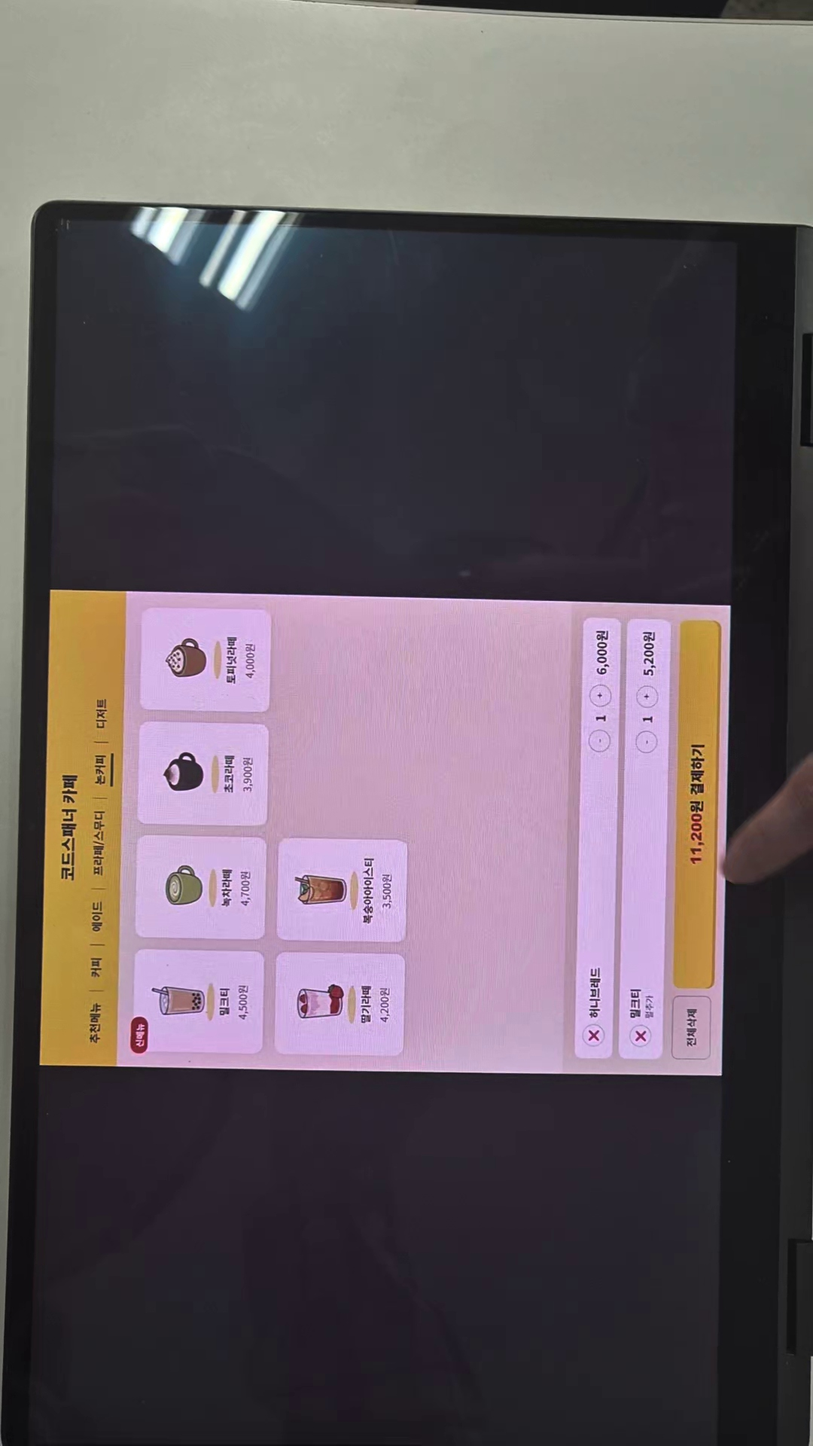action_button: (670, 619, 718, 991), (674, 995, 714, 1059)
cart_item: (621, 616, 666, 1058), (575, 616, 617, 1056)
category_tab: (89, 807, 106, 880), (85, 999, 102, 1050), (90, 693, 111, 734), (92, 749, 107, 789), (86, 952, 102, 984), (91, 900, 104, 934)
menu_back: (139, 721, 268, 828), (141, 605, 272, 710), (134, 948, 264, 1052), (276, 951, 407, 1054), (138, 835, 266, 939), (279, 840, 405, 942)
menu_name: (358, 852, 377, 927), (355, 981, 376, 1029), (223, 633, 240, 686), (218, 864, 234, 912), (219, 750, 236, 793), (218, 985, 234, 1018)
menu_price: (236, 752, 258, 795), (235, 979, 253, 1024), (380, 867, 395, 917), (240, 867, 255, 913), (244, 639, 259, 684), (378, 981, 392, 1029)
